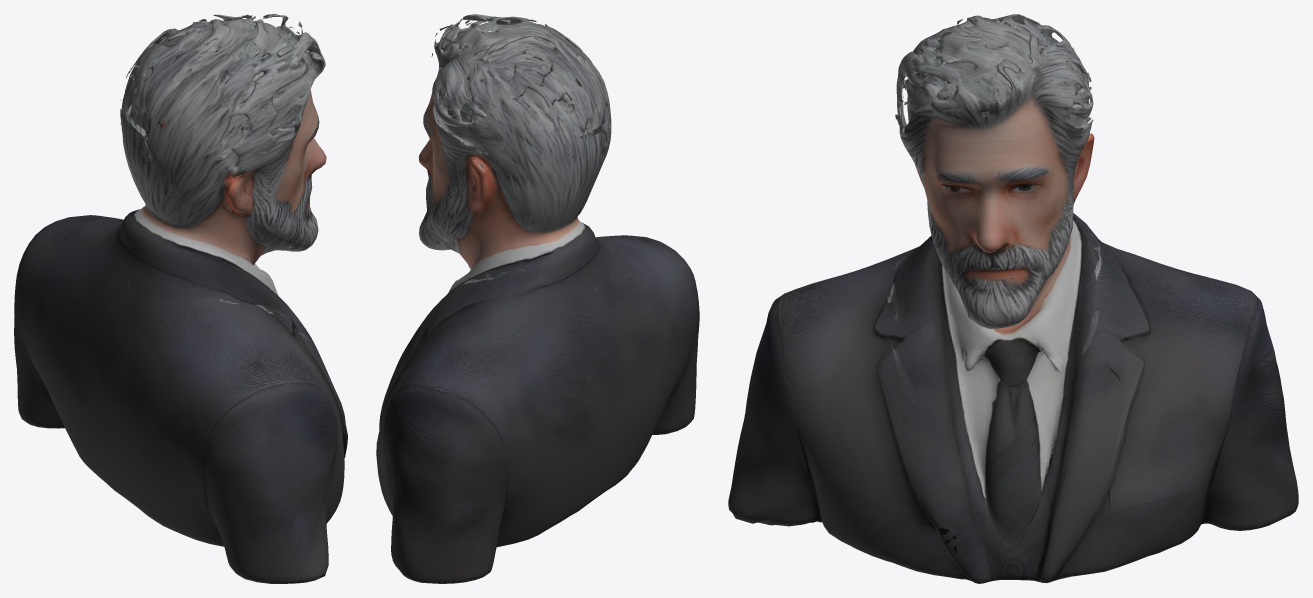
The model's file is suspect_3.glb.
The picture shows the model from 3 angles, left to right: view 1: azimuth 30°, elevation 25°; view 2: azimuth 150°, elevation 25°; view 3: azimuth 270°, elevation 25°; orthographic projection. The views are drawn at different scales.
Parts seen in each view (by area): view 1: tripo_node_575bba11-2304-43c2-bd12-ec126038fddf; view 2: tripo_node_575bba11-2304-43c2-bd12-ec126038fddf; view 3: tripo_node_575bba11-2304-43c2-bd12-ec126038fddf.
Part boxes in pixels (x1,y1,x2,y2): tripo_node_575bba11-2304-43c2-bd12-ec126038fddf: (14, 14, 347, 583); tripo_node_575bba11-2304-43c2-bd12-ec126038fddf: (376, 14, 699, 583); tripo_node_575bba11-2304-43c2-bd12-ec126038fddf: (728, 14, 1298, 583).
Size of the model in its own units: 0.4904 by 0.9707 by 0.9923.
1 material, 1 textured.
